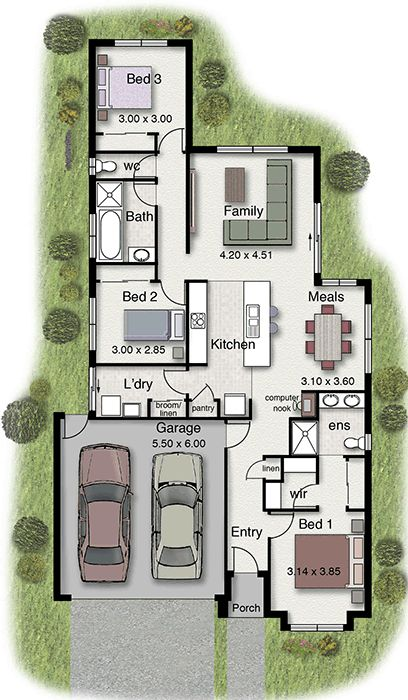door: (130, 155, 158, 177), (160, 127, 185, 150), (230, 422, 255, 445), (193, 377, 218, 400), (159, 369, 184, 392), (128, 183, 153, 206), (161, 283, 186, 306), (273, 512, 298, 535), (235, 459, 260, 482), (232, 545, 257, 568)
room: (223, 386, 372, 638), (89, 275, 257, 423), (182, 138, 324, 274), (260, 386, 377, 516), (87, 34, 194, 155), (87, 148, 194, 269)
window: (214, 143, 290, 156), (312, 201, 325, 275), (362, 302, 375, 375), (290, 622, 345, 637), (84, 365, 99, 413), (86, 295, 98, 353), (112, 37, 169, 49), (86, 211, 99, 261)
